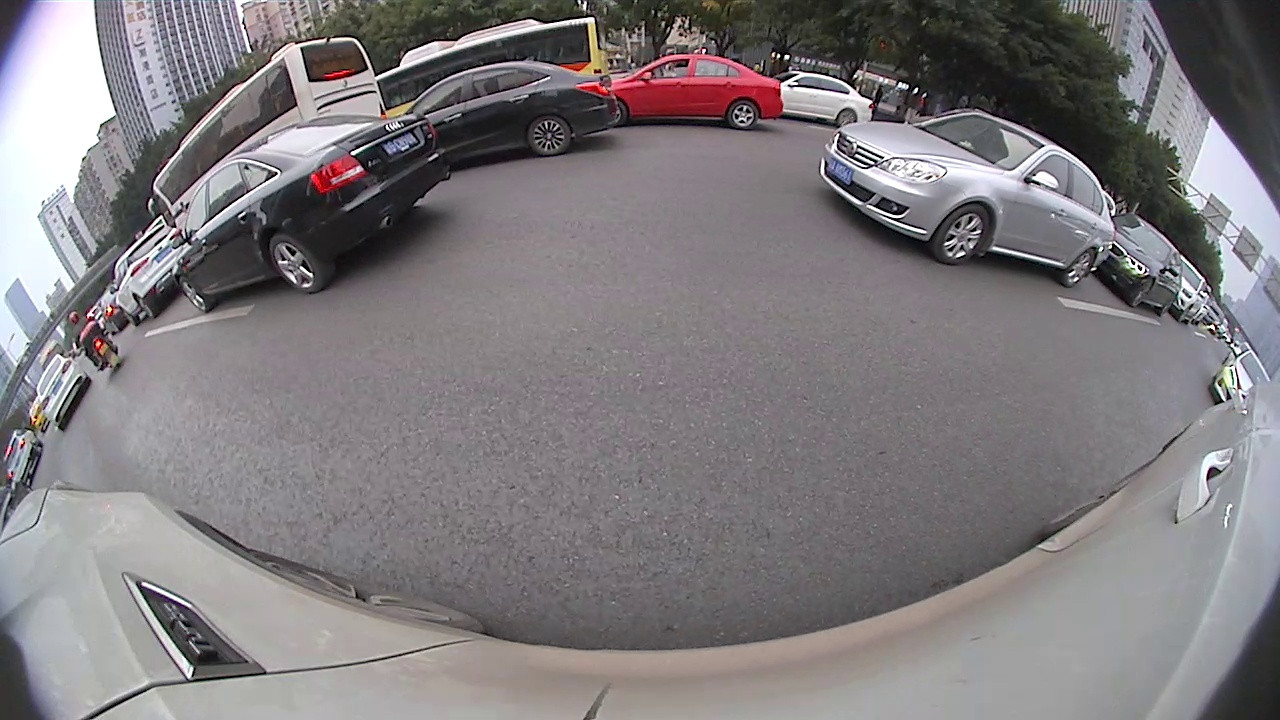bus: (147, 32, 384, 215), (375, 17, 602, 121)
car: (167, 111, 473, 313), (820, 105, 1117, 289), (387, 59, 623, 156), (580, 51, 786, 137), (111, 227, 198, 328), (1104, 212, 1183, 323), (773, 71, 876, 134), (26, 352, 88, 430), (1209, 343, 1274, 411), (1166, 251, 1206, 326), (1, 431, 42, 483)
front: (931, 204, 989, 265), (177, 274, 211, 310), (1128, 280, 1154, 306), (121, 308, 139, 325)
rear: (269, 233, 334, 289), (526, 116, 569, 157), (1061, 250, 1097, 286), (728, 100, 758, 129), (1158, 290, 1178, 315), (134, 296, 156, 316), (836, 111, 858, 129)
rider: (68, 312, 120, 373)
